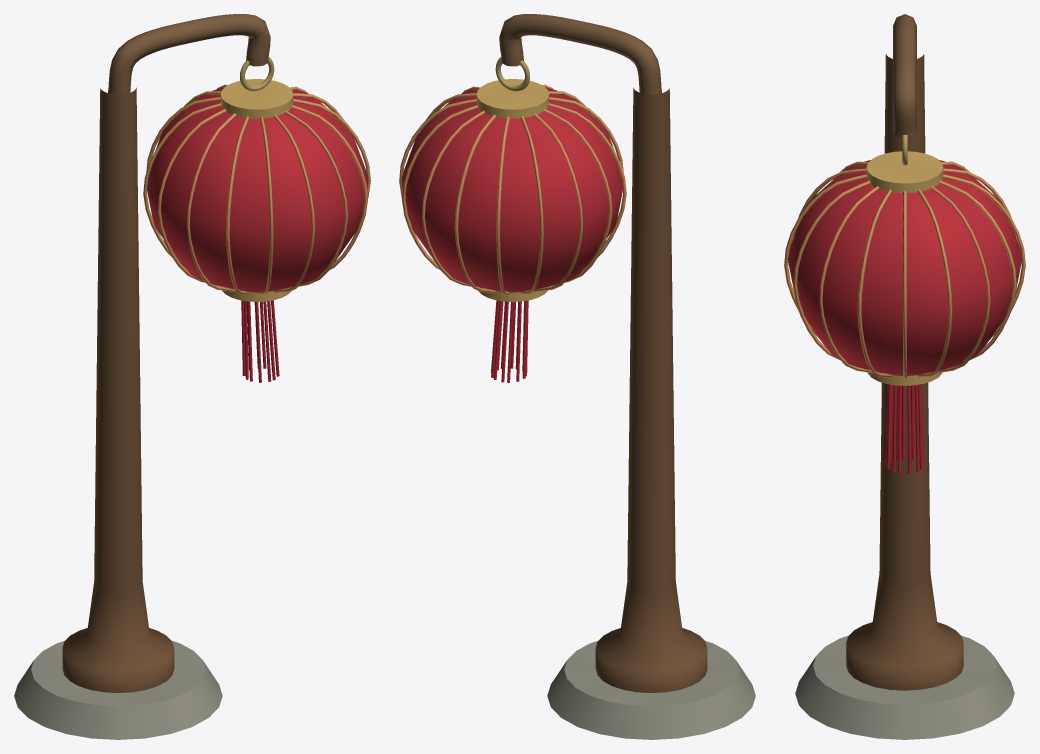
Rendered from red-lantern.glb.
3 renders of one model, left to right at view 1: azimuth 30°, elevation 25°; view 2: azimuth 150°, elevation 25°; view 3: azimuth 270°, elevation 25°, orthographic. The views are drawn at different scales.
Parts seen in each view (by area): view 1: red-lantern-wood, red-lantern-porcelain, red-lantern-stone, red-lantern-metal, red-lantern-petal; view 2: red-lantern-wood, red-lantern-porcelain, red-lantern-stone, red-lantern-metal, red-lantern-petal; view 3: red-lantern-porcelain, red-lantern-wood, red-lantern-stone, red-lantern-metal, red-lantern-petal.
Part boxes in pixels (x1,y1,x2,y2): red-lantern-wood: (62,14,270,692); red-lantern-porcelain: (147,88,368,292); red-lantern-stone: (14,641,222,739); red-lantern-metal: (143,57,370,301); red-lantern-petal: (241,300,279,382); red-lantern-wood: (499,14,707,692); red-lantern-porcelain: (401,88,622,292); red-lantern-stone: (547,641,755,739); red-lantern-metal: (399,57,626,301); red-lantern-petal: (491,300,528,382); red-lantern-porcelain: (787,160,1022,375); red-lantern-wood: (846,14,963,690); red-lantern-stone: (795,635,1014,739); red-lantern-metal: (784,135,1025,385); red-lantern-petal: (885,384,924,473).
Size of the model in its own units: 1.56 by 2.99 by 0.9472.
